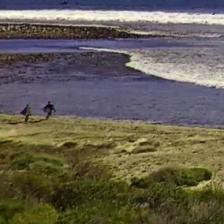surfer: (61, 0, 68, 6)
